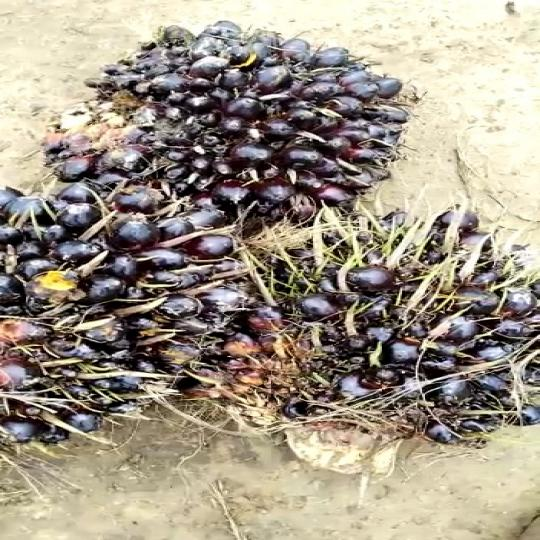mentah: (25, 13, 422, 237), (213, 204, 540, 449), (0, 179, 258, 462)
